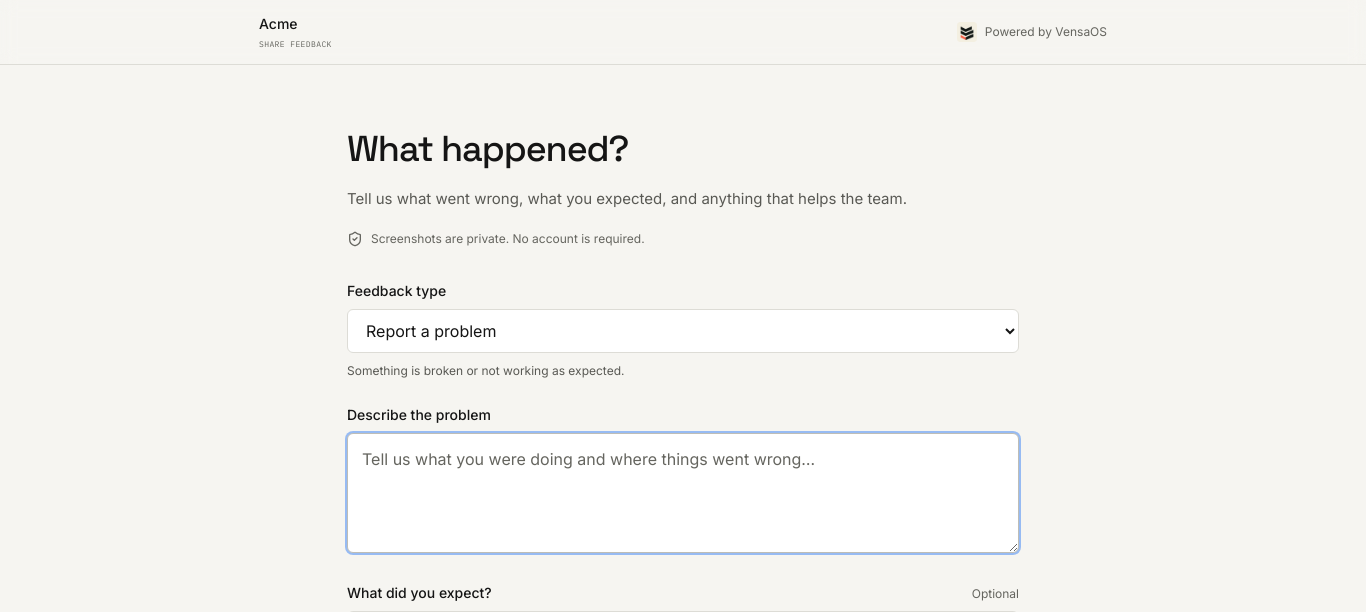
updates copy when feedback type changes
Expected: the heading "What happened?" is shown, [347,126,628,172]
Select "Suggest an improvement" in the dropdown labelled "Feedback type": {"x": 683, "y": 331} [347,309,1019,353]
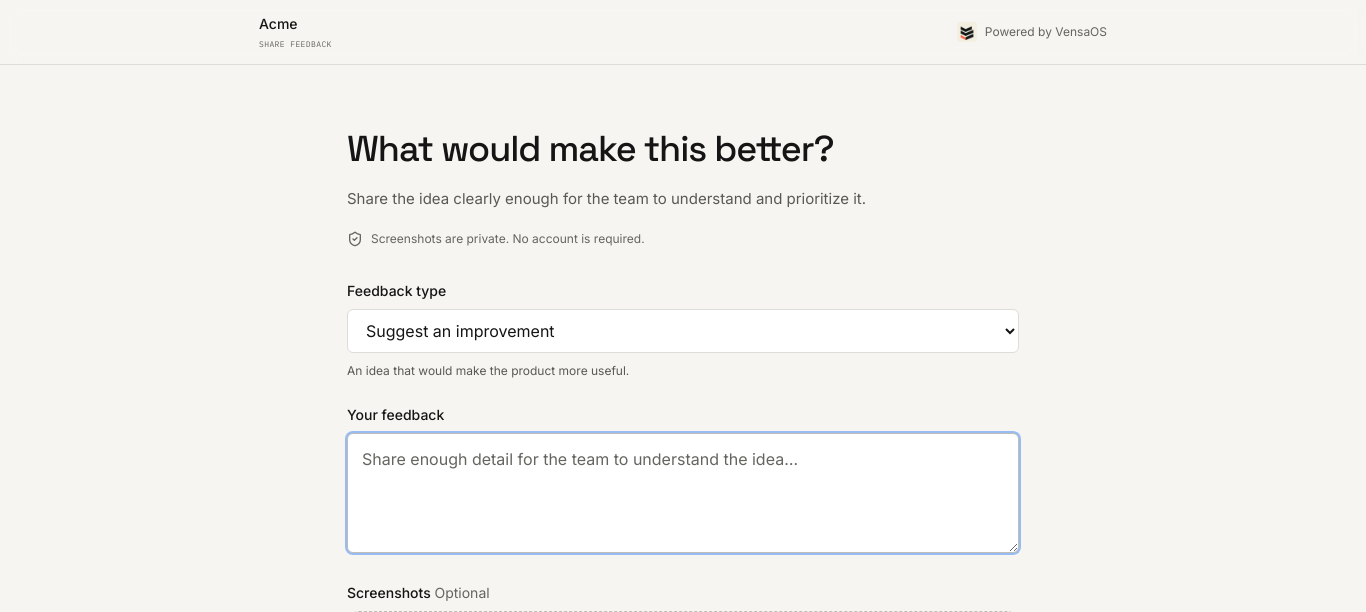
Expected: the text box labelled "Your feedback" is shown, [347,433,1019,553]
Result: the heading "What would make this better?" is shown at [347,126,833,172]
Result: the label labelled "What did you expect?" is gone
